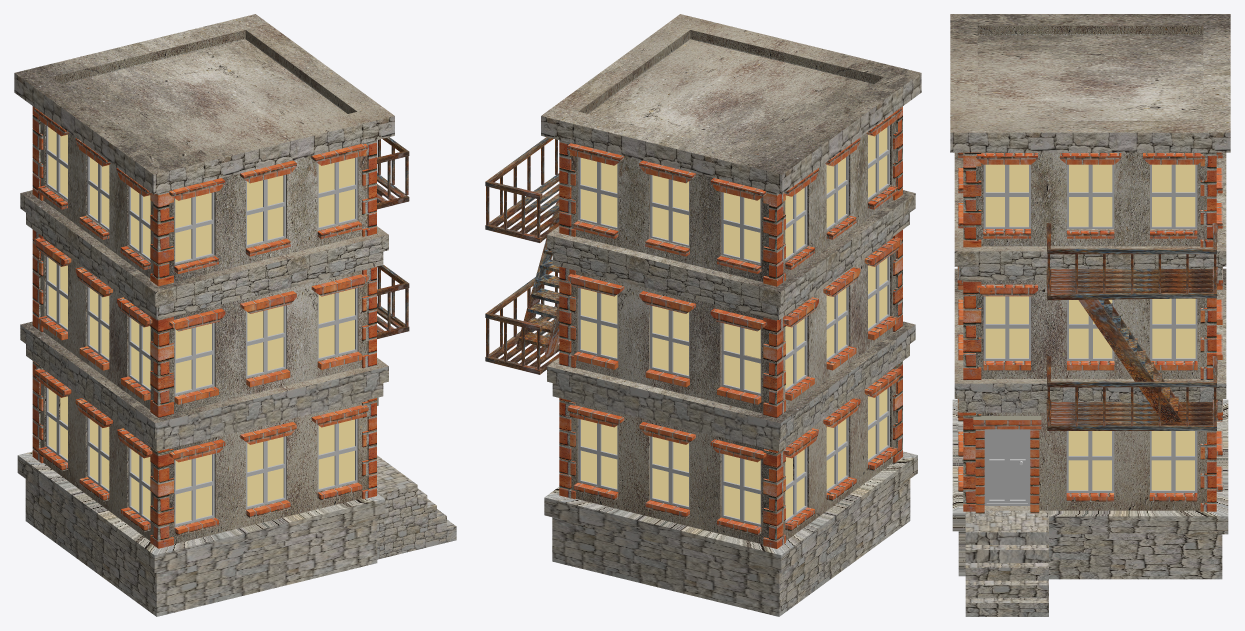
The model's file is build.gltf.
3 renders of one model, left to right at view 1: azimuth 30°, elevation 25°; view 2: azimuth 150°, elevation 25°; view 3: azimuth 270°, elevation 25°, orthographic.
Parts seen in each view (by area): view 1: Cube, Cube.019, Cube.015, Cube.016, Cube.021, Cube.022, Cube.014, Cube.018, Cube.017; view 2: Cube, Cube.019, Cube.016, Cube.015, Cube.021, Cube.022, Cube.014, Cube.005, Cube.010, Cube.003, Cube.009, Cube.006 (+3 smaller); view 3: Cube, Cube.016, Cube.015, Cube.019, Cube.021, Cube.014, Cube.022, Cube.005, Cube.017, Cube.020, Cube.008, Cube.009 (+9 smaller).
Boxes of the visible parts, left/top/right/bottom form: Cube: left=15, top=14, right=394, bottom=543; Cube.019: left=14, top=73, right=394, bottom=451; Cube.015: left=48, top=127, right=354, bottom=523; Cube.016: left=17, top=451, right=385, bottom=616; Cube.021: left=34, top=107, right=368, bottom=535; Cube.022: left=46, top=125, right=357, bottom=526; Cube.014: left=32, top=106, right=376, bottom=548; Cube.018: left=377, top=485, right=456, bottom=559; Cube.017: left=377, top=455, right=456, bottom=528; Cube: left=541, top=14, right=920, bottom=544; Cube.019: left=541, top=73, right=921, bottom=451; Cube.016: left=544, top=451, right=917, bottom=616; Cube.015: left=581, top=127, right=887, bottom=523; Cube.021: left=567, top=107, right=901, bottom=535; Cube.022: left=578, top=125, right=889, bottom=526; Cube.014: left=559, top=106, right=902, bottom=548; Cube.005: left=490, top=176, right=559, bottom=240; Cube.010: left=519, top=210, right=559, bottom=347; Cube.003: left=486, top=139, right=557, bottom=237; Cube.009: left=516, top=192, right=559, bottom=357; Cube.006: left=486, top=272, right=557, bottom=369; Cube: left=950, top=14, right=1230, bottom=510; Cube.016: left=952, top=399, right=1228, bottom=616; Cube.015: left=985, top=164, right=1195, bottom=490; Cube.019: left=950, top=132, right=1230, bottom=412; Cube.021: left=957, top=152, right=1222, bottom=501; Cube.014: left=963, top=152, right=1216, bottom=511; Cube.022: left=983, top=164, right=1197, bottom=492; Cube.005: left=1050, top=269, right=1213, bottom=295; Cube.017: left=965, top=510, right=1048, bottom=602; Cube.020: left=984, top=429, right=1030, bottom=505; Cube.008: left=1051, top=402, right=1213, bottom=425; Cube.009: left=1078, top=288, right=1182, bottom=422.
Bounding box in the file's own units: 6.02 × 8.27 × 4.67.
